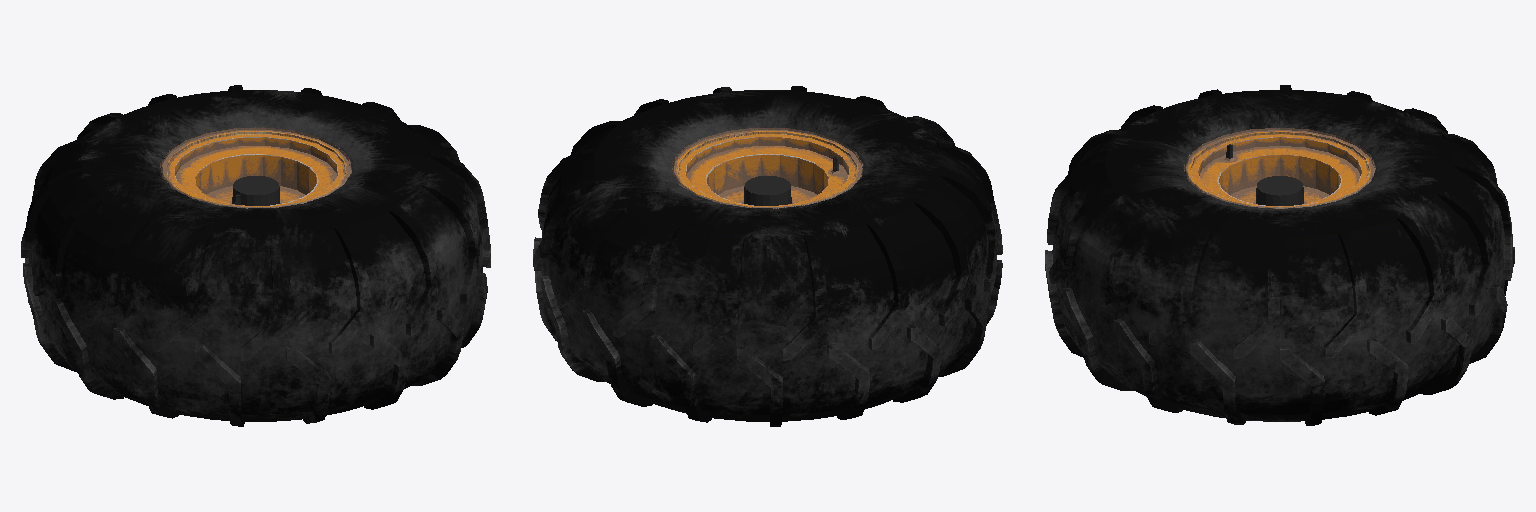
3 views of the same model, side by side, from view 1: azimuth 30°, elevation 25°; view 2: azimuth 150°, elevation 25°; view 3: azimuth 270°, elevation 25° (orthographic).
Visible parts, largest first — view 1: Wheel_Back_Right; view 2: Wheel_Back_Right; view 3: Wheel_Back_Right.
Part boxes in pixels (bbox=[...]): Wheel_Back_Right: bbox=[21, 85, 490, 426]; Wheel_Back_Right: bbox=[533, 86, 1002, 426]; Wheel_Back_Right: bbox=[1045, 85, 1514, 425].
Size of the model in its own units: 0.6253 by 0.2795 by 0.6253.
1 materials, 1 textured.